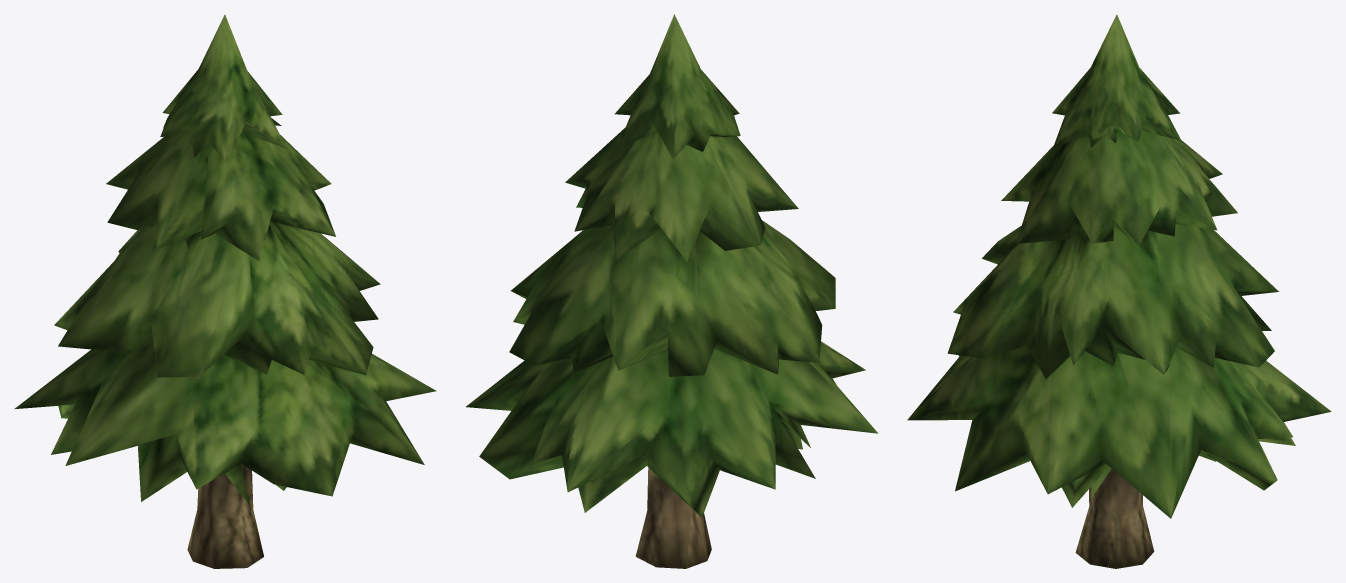
The model's file is tree-pine-02.glb.
The picture shows the model from 3 angles, left to right: view 1: azimuth 30°, elevation 25°; view 2: azimuth 150°, elevation 25°; view 3: azimuth 270°, elevation 25°; orthographic projection.
Bounding box in the file's own units: 0.6729 × 0.9531 × 0.6821.
Materials: 1 (1 with a texture image).
